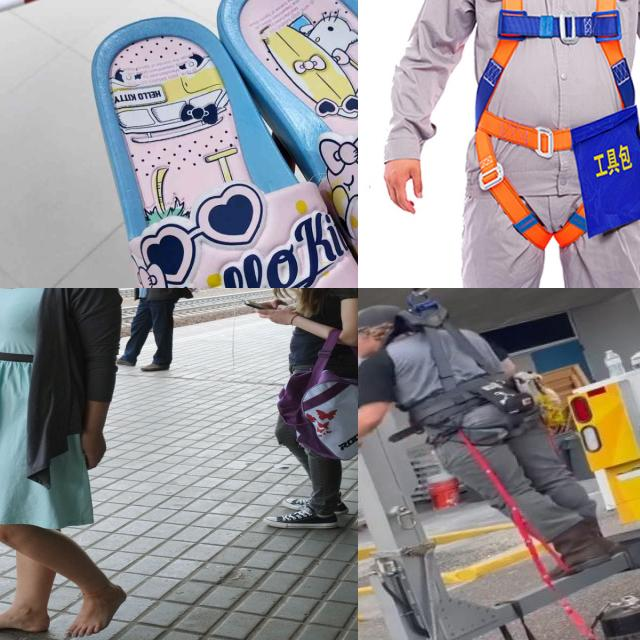Barefoots: (64, 584, 127, 638), (0, 610, 50, 632)
Harness: (467, 0, 640, 252), (388, 288, 502, 390)
Sandals: (76, 0, 358, 288)
